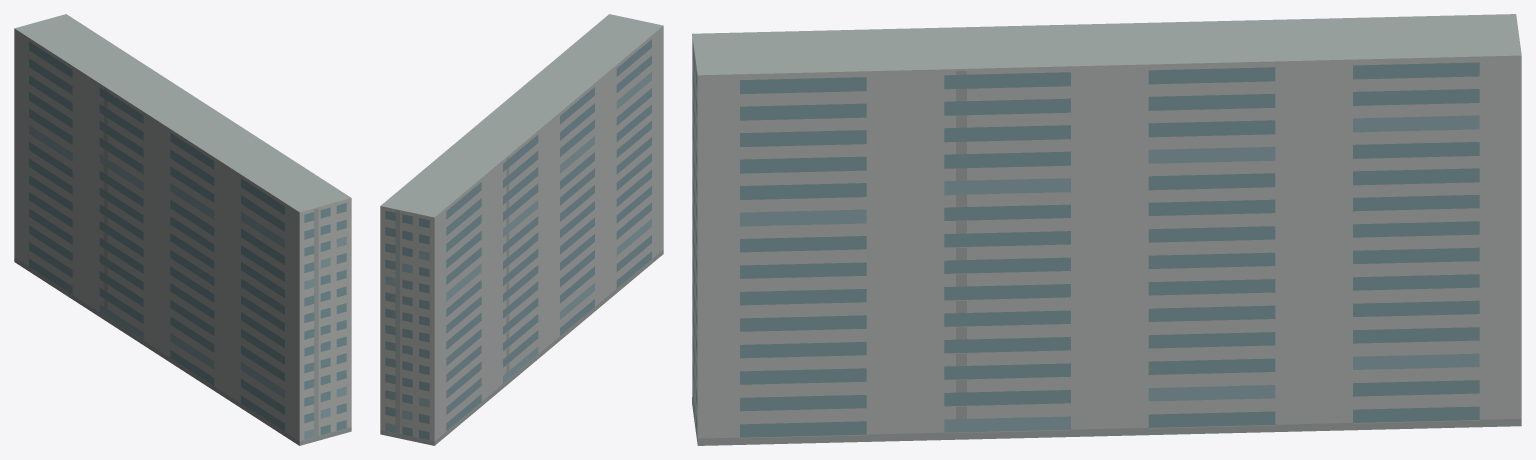
The model's file is residential-bdd40a43-2fea-4f97-8cab-f5e9c9840493.glb.
3 views of the same model, side by side, from view 1: azimuth 30°, elevation 25°; view 2: azimuth 150°, elevation 25°; view 3: azimuth 270°, elevation 25° (orthographic). The views are drawn at different scales.
Visible parts, largest first — view 1: residential-bdd40a43-2fea-4f97-8cab-f5e9c9840493.tmp; view 2: residential-bdd40a43-2fea-4f97-8cab-f5e9c9840493.tmp; view 3: residential-bdd40a43-2fea-4f97-8cab-f5e9c9840493.tmp.
Part boxes in pixels (box(x1,y1,x2,y2)): residential-bdd40a43-2fea-4f97-8cab-f5e9c9840493.tmp: box(14, 14, 351, 445); residential-bdd40a43-2fea-4f97-8cab-f5e9c9840493.tmp: box(380, 14, 663, 445); residential-bdd40a43-2fea-4f97-8cab-f5e9c9840493.tmp: box(692, 14, 1521, 445).
Bounding box in the file's own units: 15.62 × 44 × 89.27.
